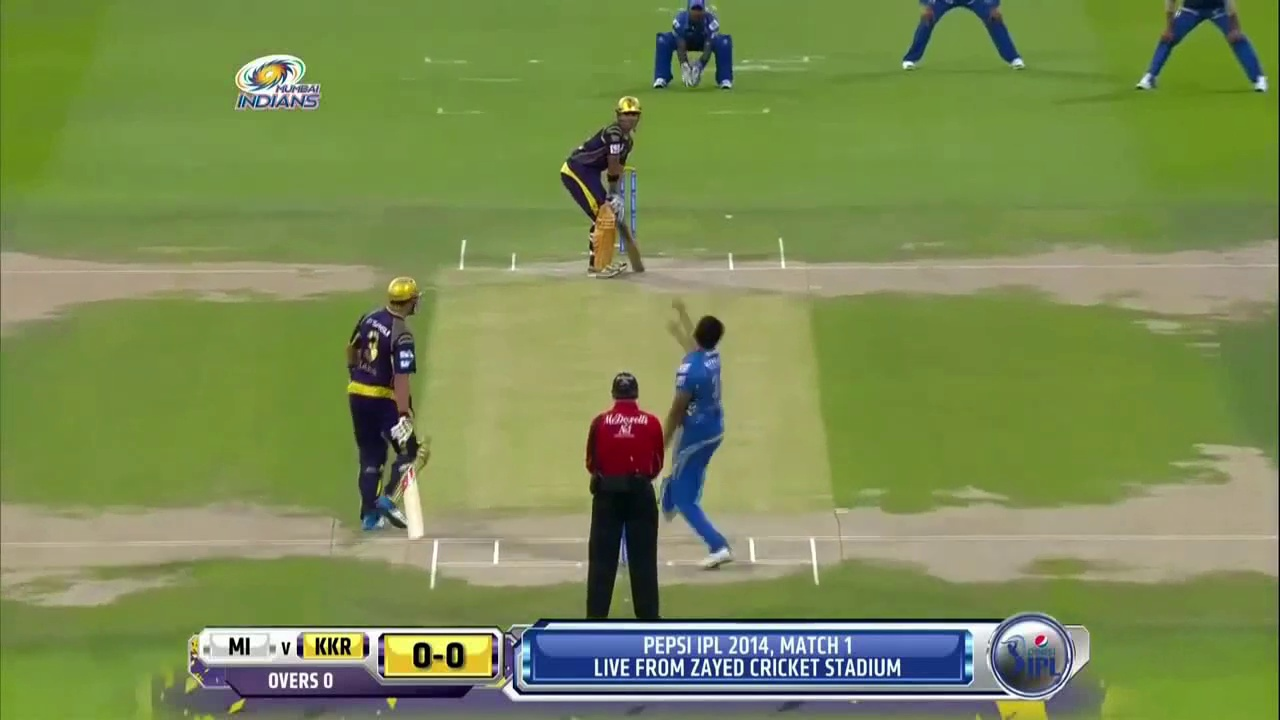bat: (399, 464, 426, 540), (618, 225, 647, 275)
